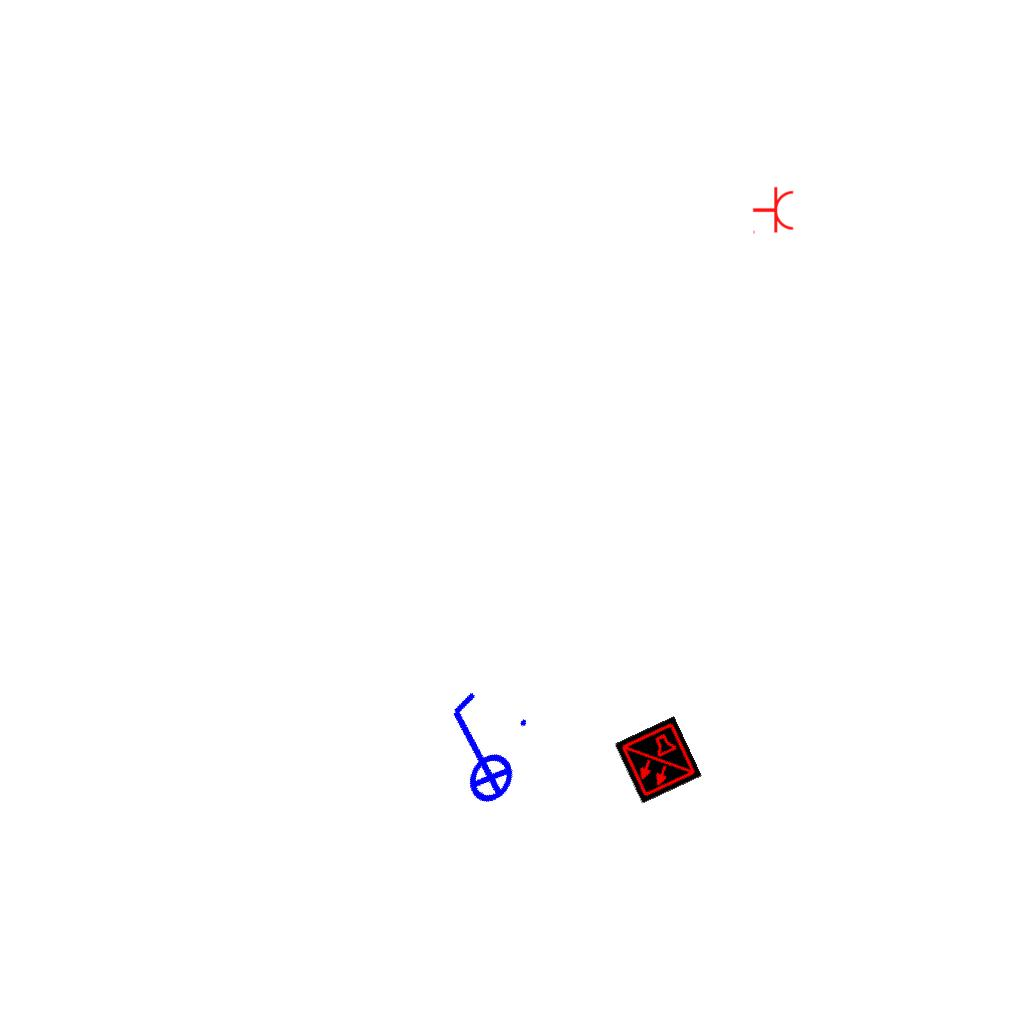Ausschalter_beleuchtet: (407, 677, 547, 823)
OKW_Multisensormelder_(Kombination_optischer_Rauch-Kahlenmonoxid_Waerme-Melder): (614, 716, 702, 804)
Schukosteckdose_einfach: (752, 186, 795, 236)
